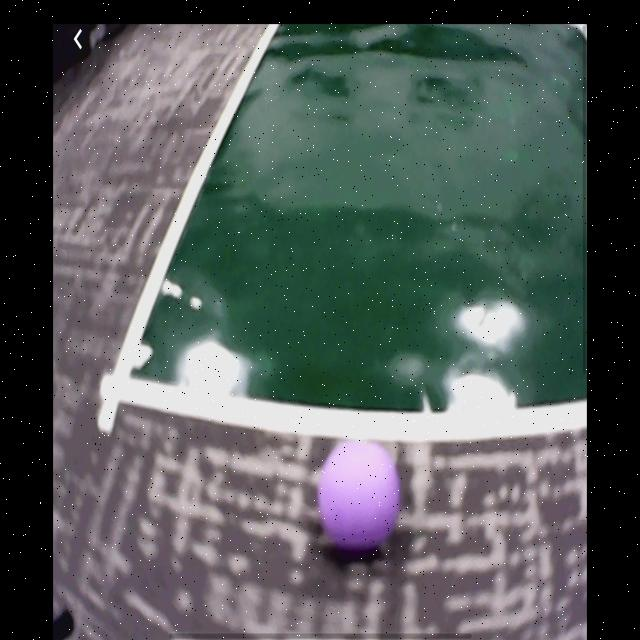ball: (317, 439, 402, 552)
